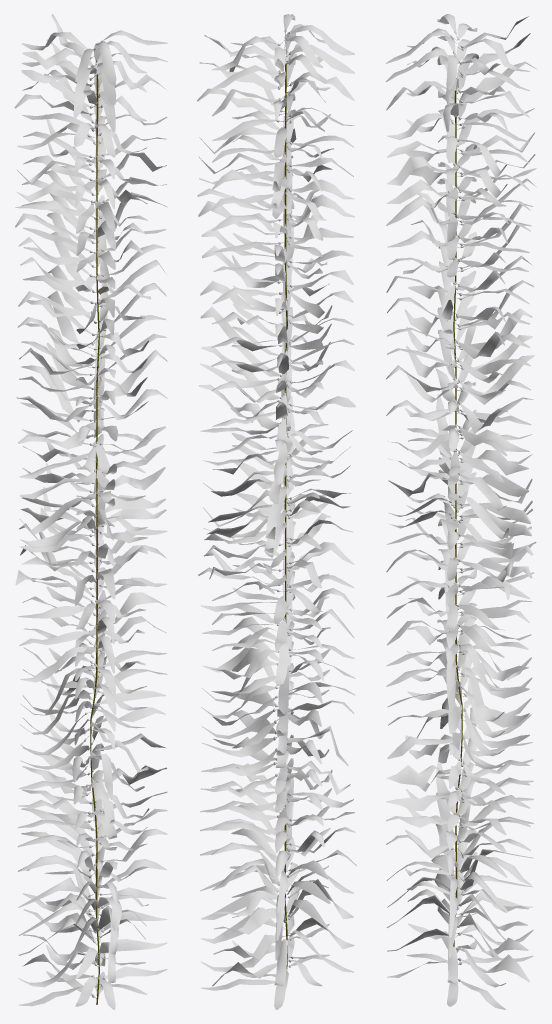
File: betterkelp.fbx
The picture shows the model from 3 angles, left to right: view 1: azimuth 90°, elevation 25°; view 2: azimuth 150°, elevation 25°; view 3: azimuth 270°, elevation 25°; orthographic projection.
Parts seen in each view (by area): view 1: stem; view 2: stem; view 3: stem.
Boxes of the visible parts, x1=… form: stem: x1=14, y1=14, x2=167, y2=1009; stem: x1=197, y1=14, x2=356, y2=1009; stem: x1=385, y1=14, x2=536, y2=1009.
Bounding box in the file's own units: 2874 × 21249 × 3050.
